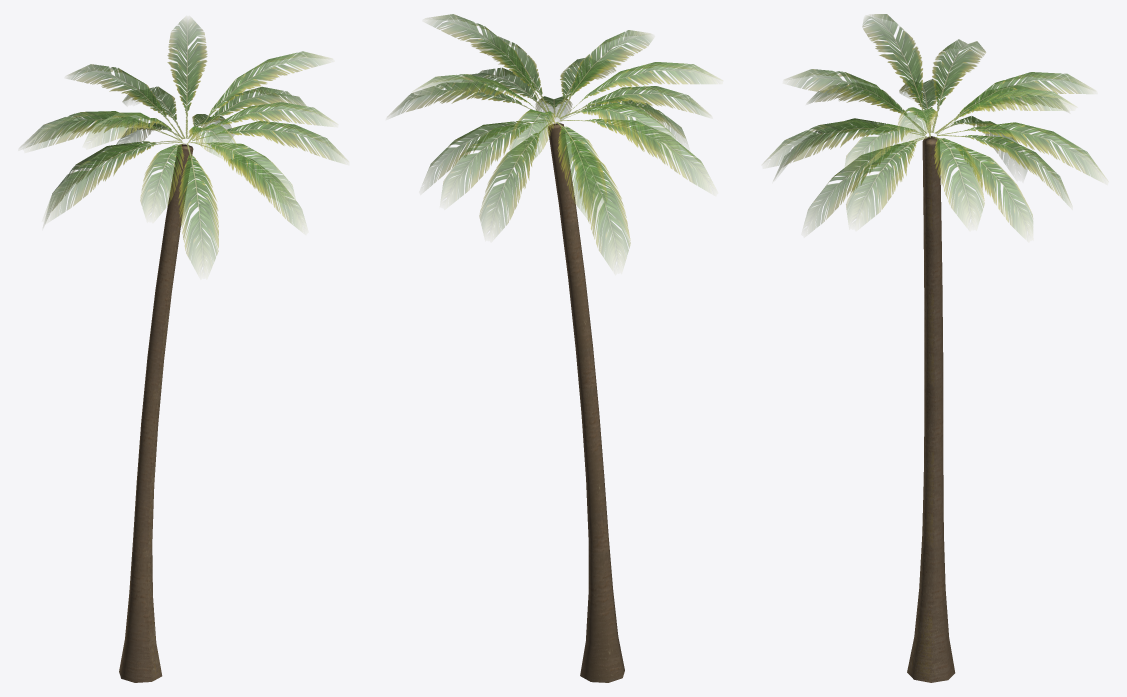
The model's file is palm_c.glb.
The picture shows the model from 3 angles, left to right: view 1: azimuth 30°, elevation 25°; view 2: azimuth 150°, elevation 25°; view 3: azimuth 270°, elevation 25°; orthographic projection. The views are drawn at different scales.
Parts seen in each view (by area): view 1: palm_c; view 2: palm_c; view 3: palm_c.
Part boxes in pixels (x1,y1,x2,y2): palm_c: [20, 18, 347, 682]; palm_c: [388, 14, 720, 682]; palm_c: [764, 14, 1105, 682].
Bounding box in the file's own units: 6.33 × 11.86 × 6.04.
2 materials, 2 textured.
